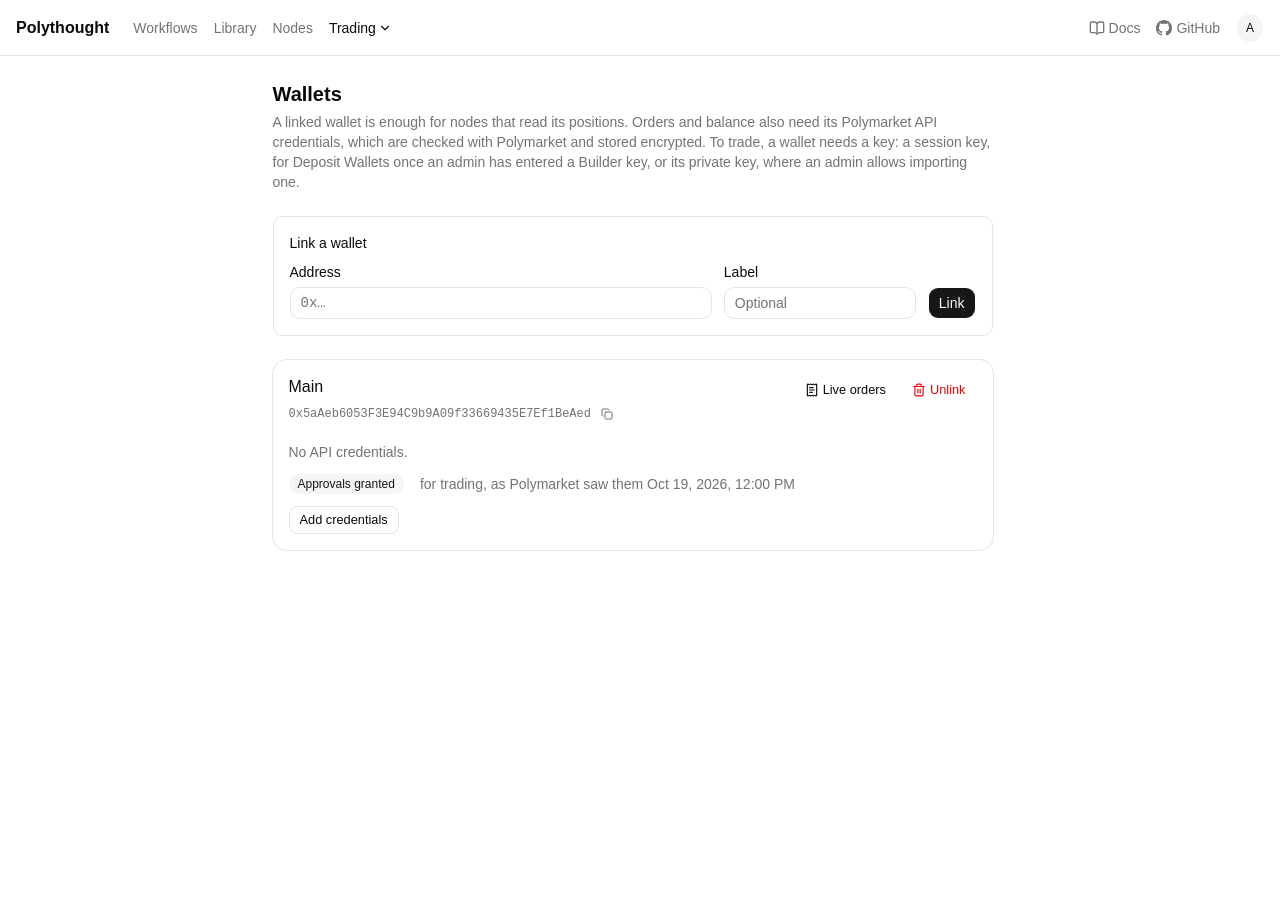
Test: wallets page › unlinks after asking
Click the button "Unlink": (939, 390) [901,376,976,404]
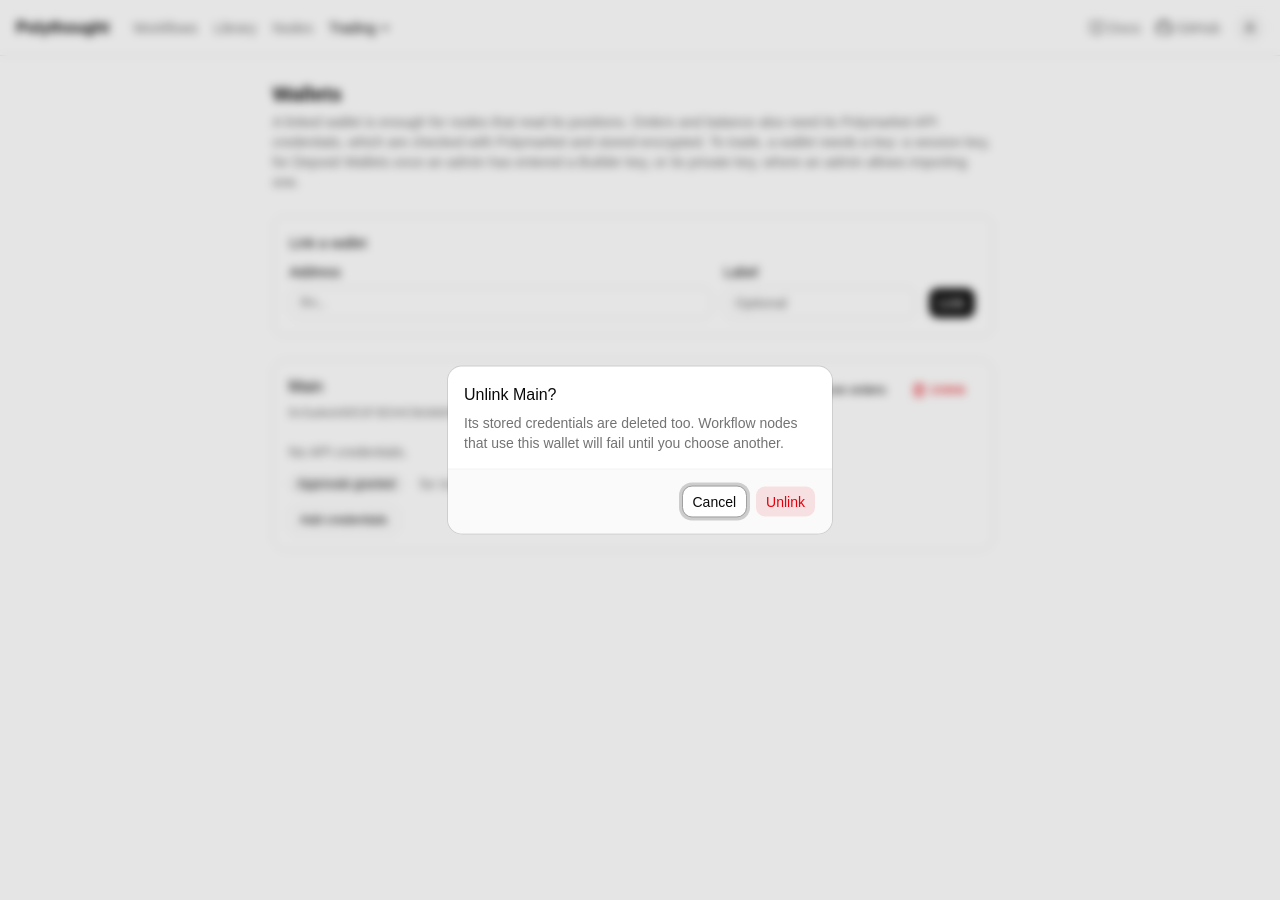
Click the button "Unlink": (786, 502) [755,486,816,518]
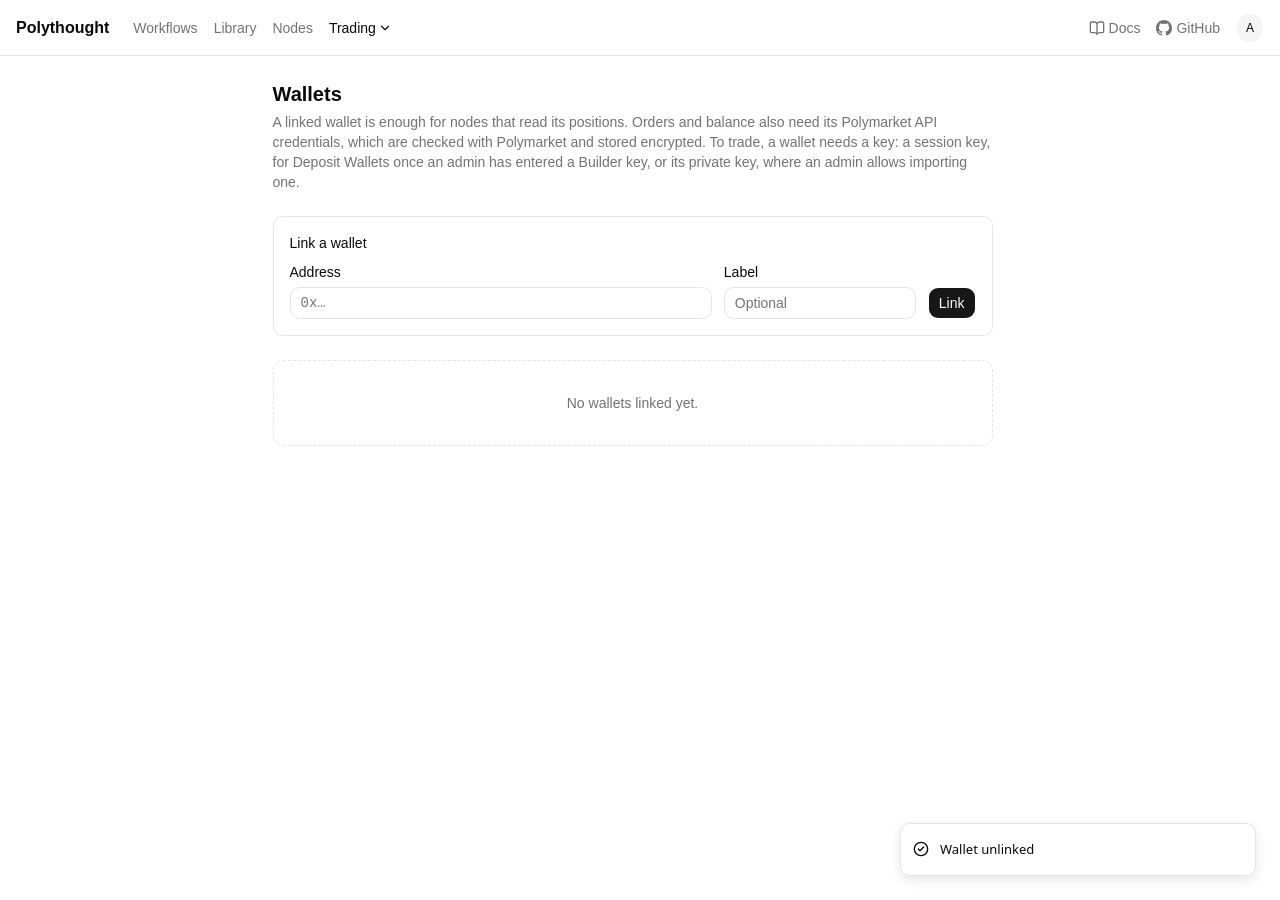
Result: the text "No wallets linked yet." is shown at [272,360,992,446]
